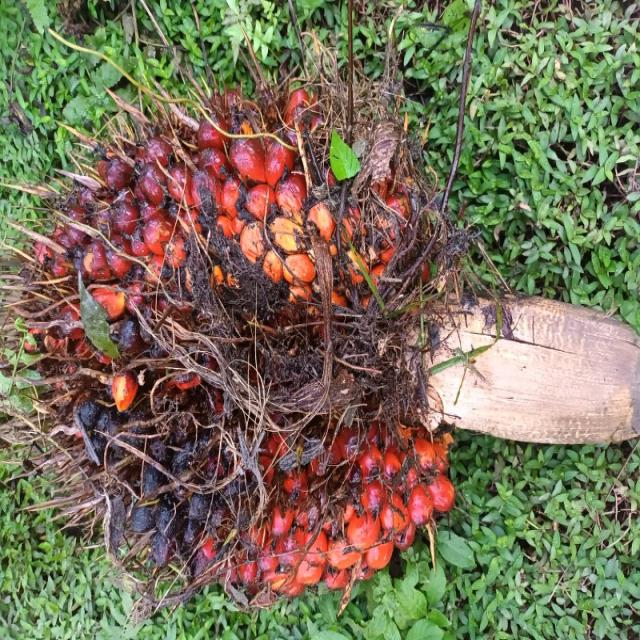fraksi 3: (22, 0, 440, 640)
